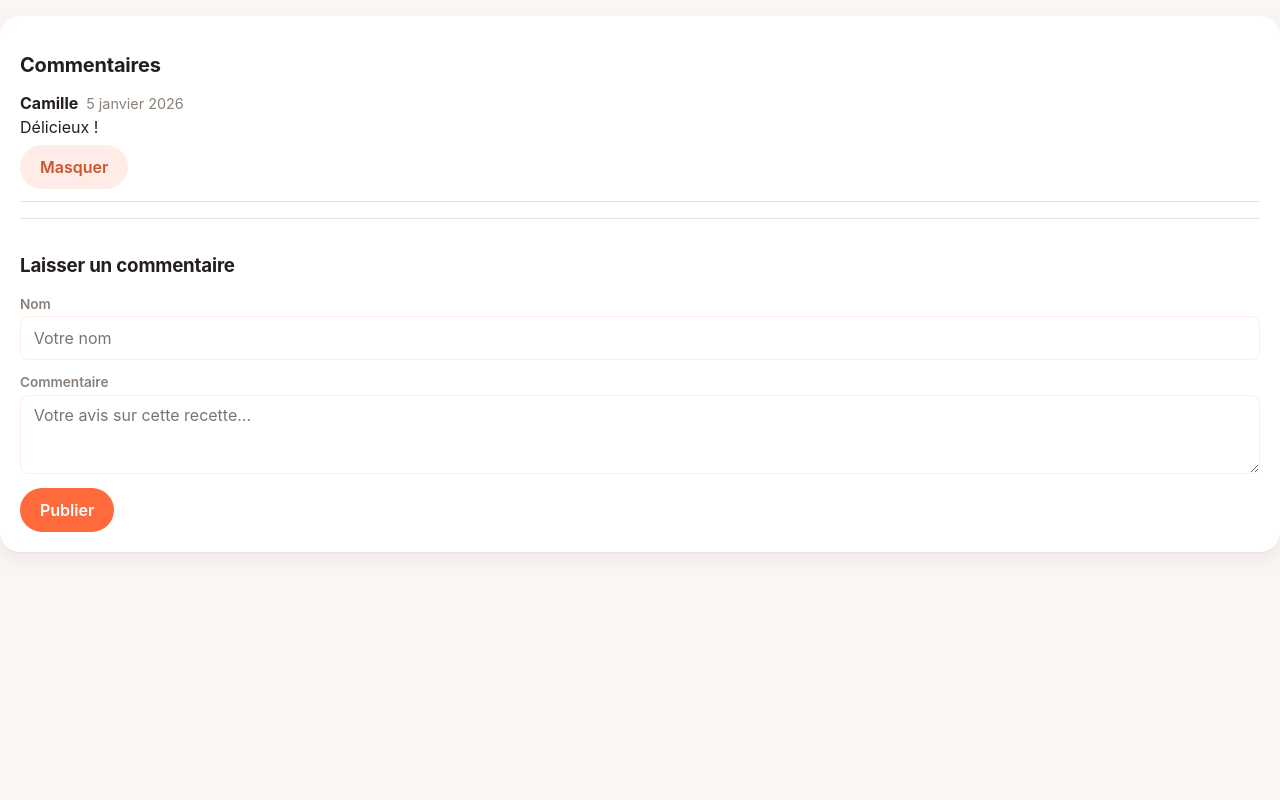
Test case: RecipeComments › lets a moderator hide a comment
Click the button with class "secondary": click(74, 167) left=20, top=145, right=128, bottom=189
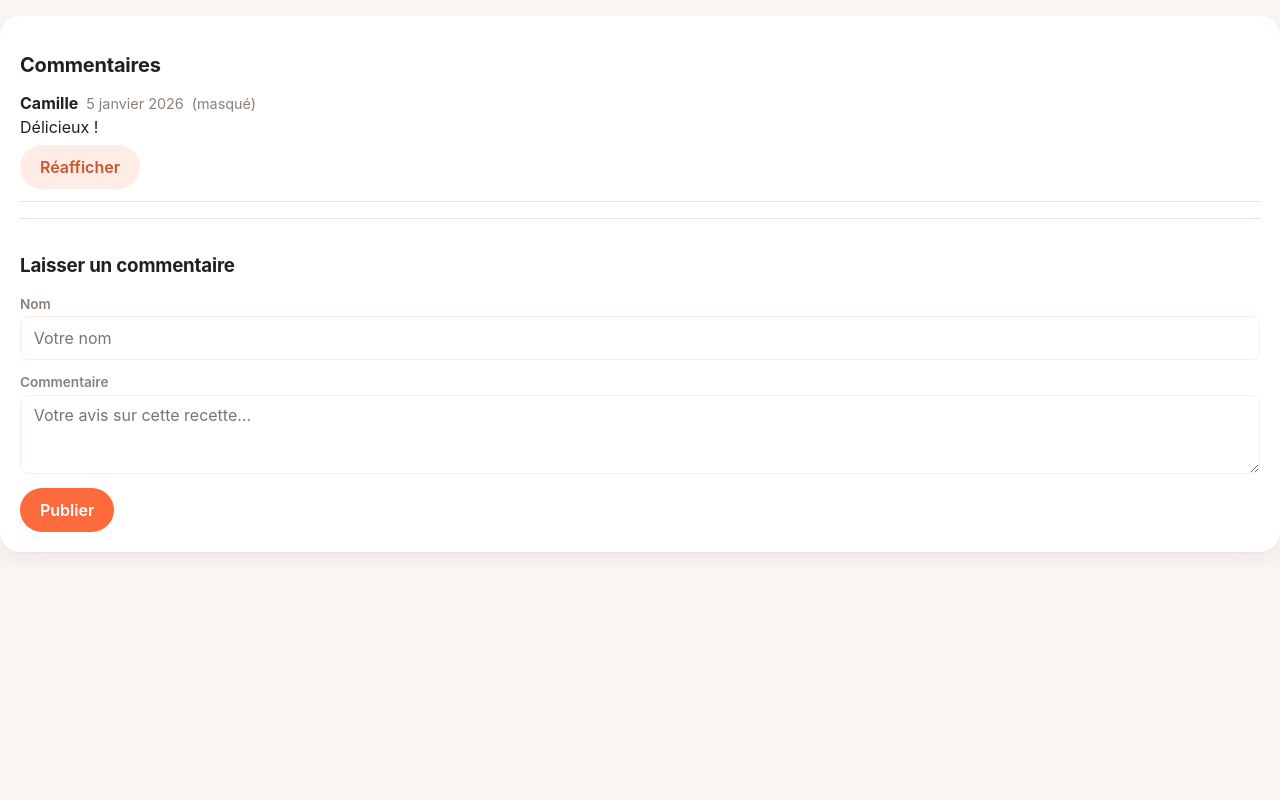
Check: the text "masqué" is shown, box left=192, top=95, right=256, bottom=112
